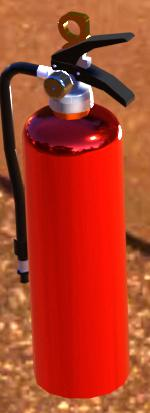fire_extinguisher: (0, 1, 150, 413)
